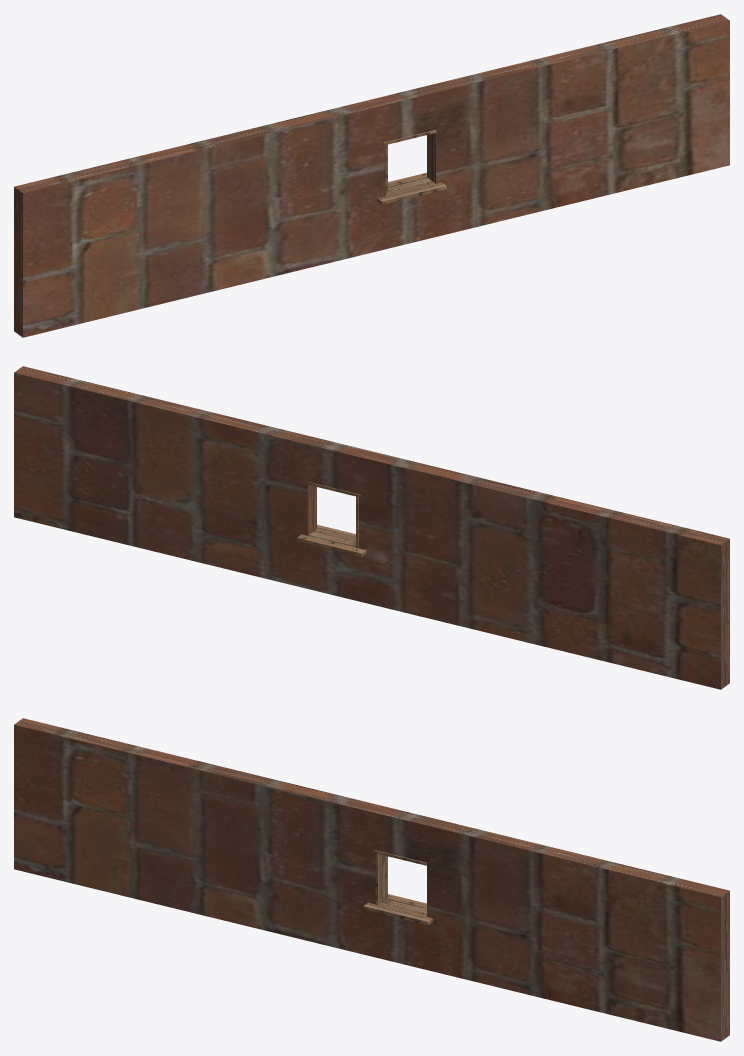
File: LeftWall.fbx
The picture shows the model from 3 angles, top to bottom: view 1: azimuth 30°, elevation 25°; view 2: azimuth 150°, elevation 25°; view 3: azimuth 330°, elevation 25°; orthographic projection.
Parts seen in each view (by area): view 1: Wood.001; view 2: Wood.001; view 3: Wood.001.
Boxes of the visible parts, x1=… form: Wood.001: x1=14, y1=14, x2=729, y2=337; Wood.001: x1=14, y1=366, x2=729, y2=689; Wood.001: x1=14, y1=718, x2=729, y2=1041.
Size of the model in its own units: 9079 by 1774 by 413.
4 materials, 4 textured.
